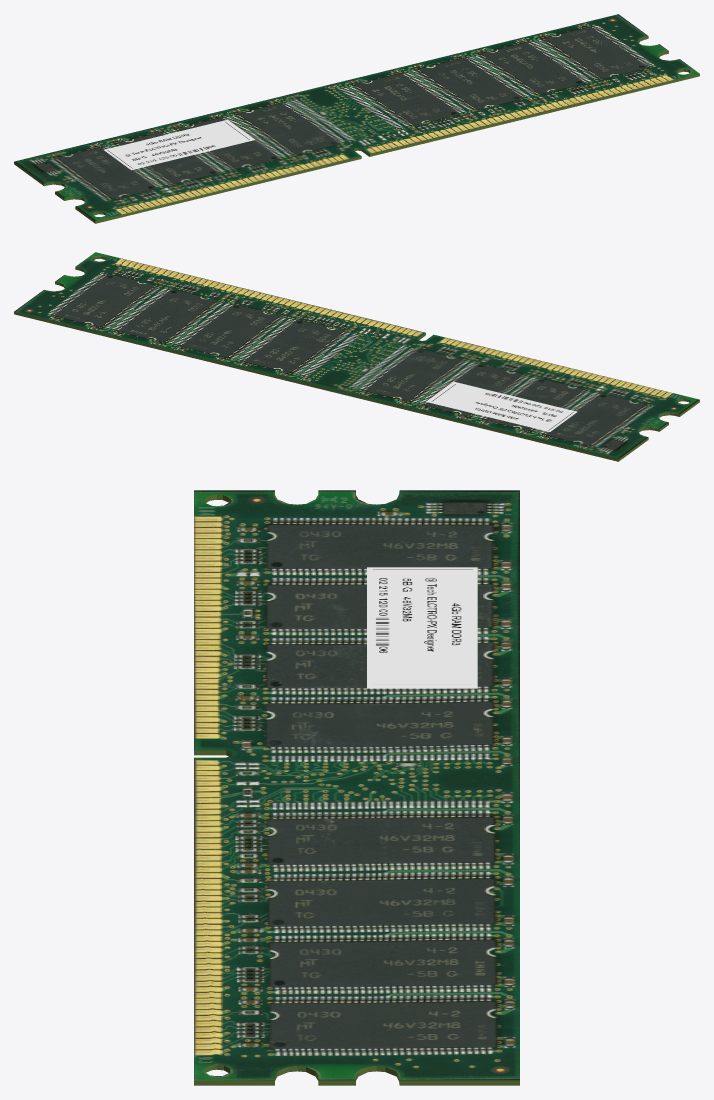
The model's file is ram.glb.
3 views of the same model, one above another, from view 1: azimuth 30°, elevation 25°; view 2: azimuth 150°, elevation 25°; view 3: azimuth 270°, elevation 25° (orthographic). The views are drawn at different scales.
Parts seen in each view (by area): view 1: RAM; view 2: RAM; view 3: RAM.
Part boxes in pixels (box(x1,y1,x2,y2)): RAM: box(14, 14, 699, 223); RAM: box(14, 252, 699, 461); RAM: box(194, 490, 519, 1085).
Bounding box in the file's own units: 973 × 4.19 × 227.
1 material, 1 textured.
